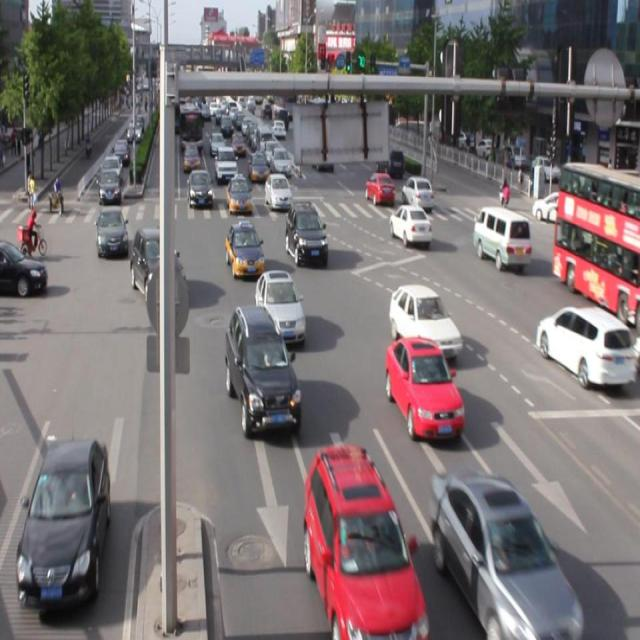car: (430, 468, 580, 640), (303, 444, 426, 640), (19, 437, 109, 607), (225, 303, 302, 438), (534, 304, 640, 386), (386, 334, 465, 442), (389, 282, 462, 364), (131, 226, 185, 302), (255, 268, 306, 344), (284, 203, 328, 264), (225, 222, 264, 281), (388, 204, 432, 244)
truck: (473, 204, 531, 267)
van: (552, 163, 640, 326)
